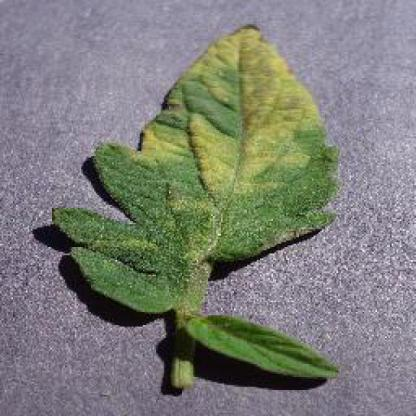Tomato_Leaf_Mold: (51, 21, 338, 382)
